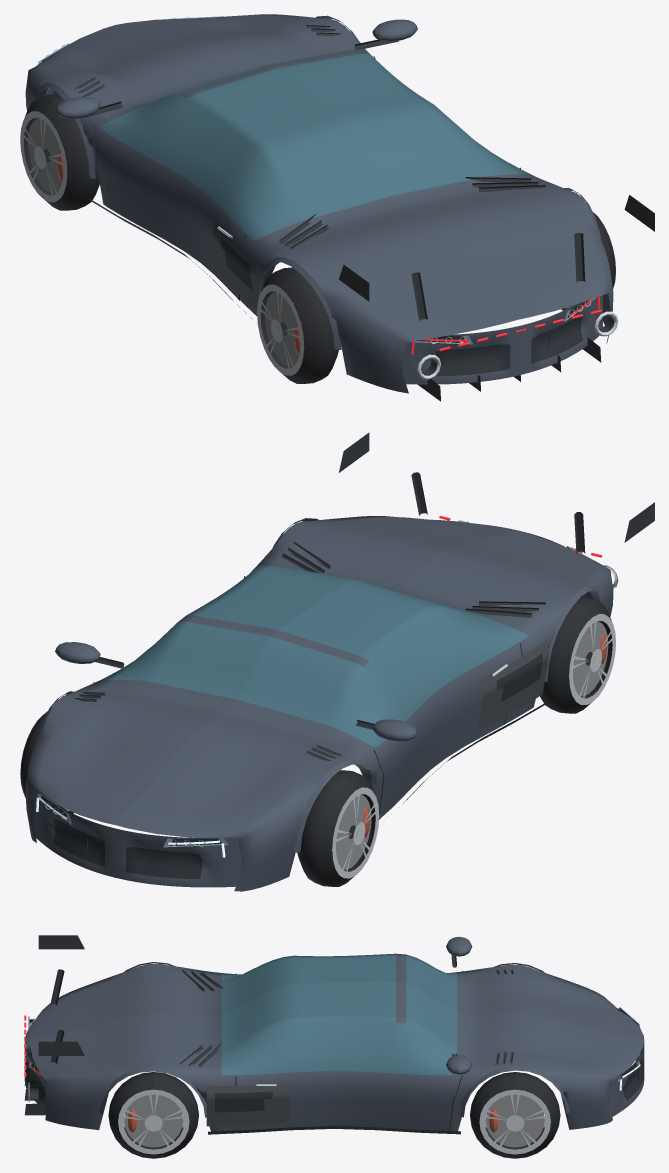
File: phantom_x_low.glb
3 views of the same model, one above another, from view 1: azimuth 30°, elevation 25°; view 2: azimuth 150°, elevation 25°; view 3: azimuth 270°, elevation 25° (orthographic). The views are drawn at different scales.
Visible parts, largest first — view 1: Body, Wheel_2, Wheel_0; view 2: Body, Wheel_0, Wheel_2, Wheel_1; view 3: Body, Wheel_3, Wheel_1.
Part boxes in pixels (x1,y1,x2,y2): Body: (25,14,654,401); Wheel_2: (257,267,338,383); Wheel_0: (20,94,99,210); Body: (25,432,654,891); Wheel_0: (297,770,379,886); Wheel_2: (540,597,615,713); Wheel_1: (20,711,73,813); Body: (24,935,644,1134); Wheel_3: (108,1072,198,1158); Wheel_1: (470,1072,560,1158).
Bounding box in the file's own units: 2.52 × 1.08 × 5.09.
